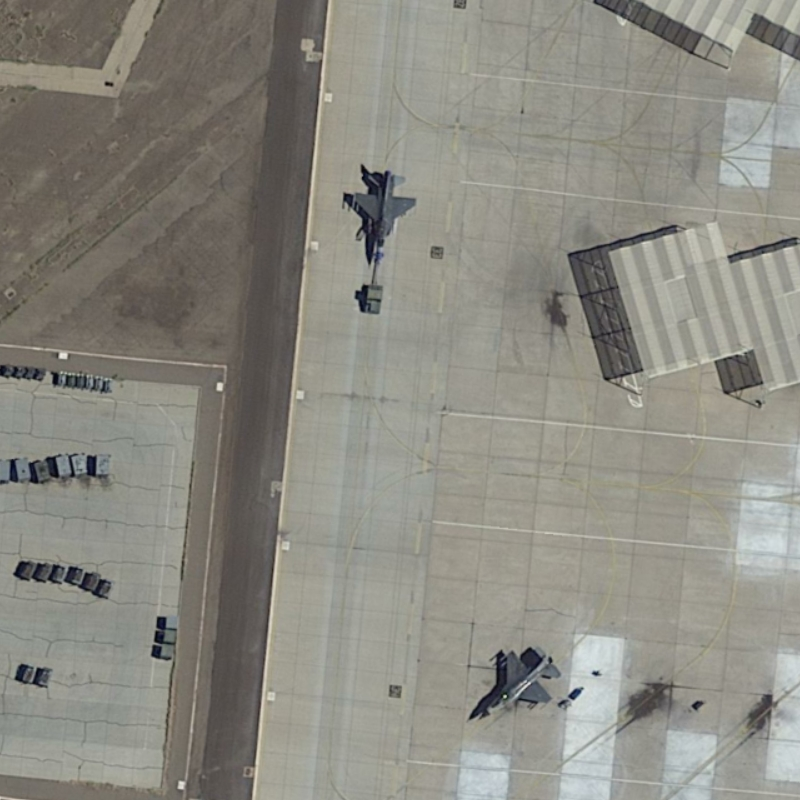A5: (467, 634, 566, 726), (340, 166, 421, 267)
